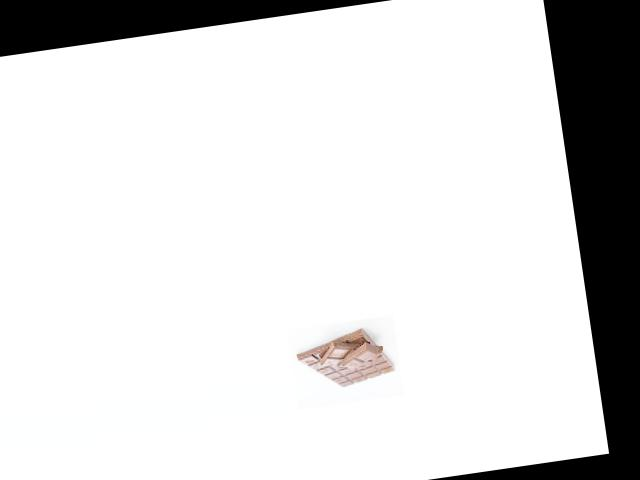chocolate: (292, 320, 398, 397)
